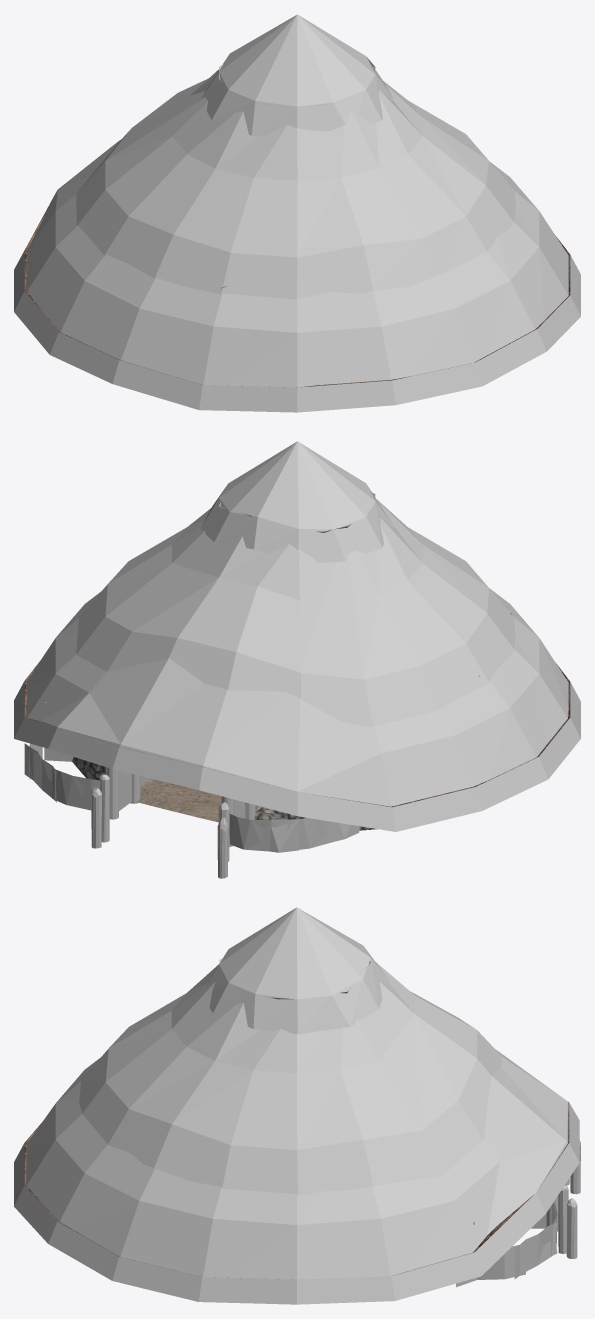
The model's file is RoundHut_2_LOD1.fbx.
The picture shows the model from 3 angles, top to bottom: view 1: azimuth 30°, elevation 25°; view 2: azimuth 150°, elevation 25°; view 3: azimuth 270°, elevation 25°; orthographic projection.
Parts seen in each view (by area): view 1: Alpha, Roof; view 2: Alpha, Wood, Ground, Stone, Roof; view 3: Alpha, Wood, Roof.
Part boxes in pixels (box(x1,y1,x2,y2)): Alpha: box(14, 14, 580, 412); Roof: box(24, 140, 570, 387); Alpha: box(14, 441, 580, 852); Wood: box(44, 610, 511, 878); Ground: box(136, 778, 221, 822); Stone: box(72, 757, 377, 830); Roof: box(24, 661, 570, 807); Alpha: box(14, 907, 579, 1304); Wood: box(473, 1140, 580, 1258); Roof: box(24, 1102, 569, 1279).
Bounding box in the file's own units: 2419 × 2387 × 1483.
